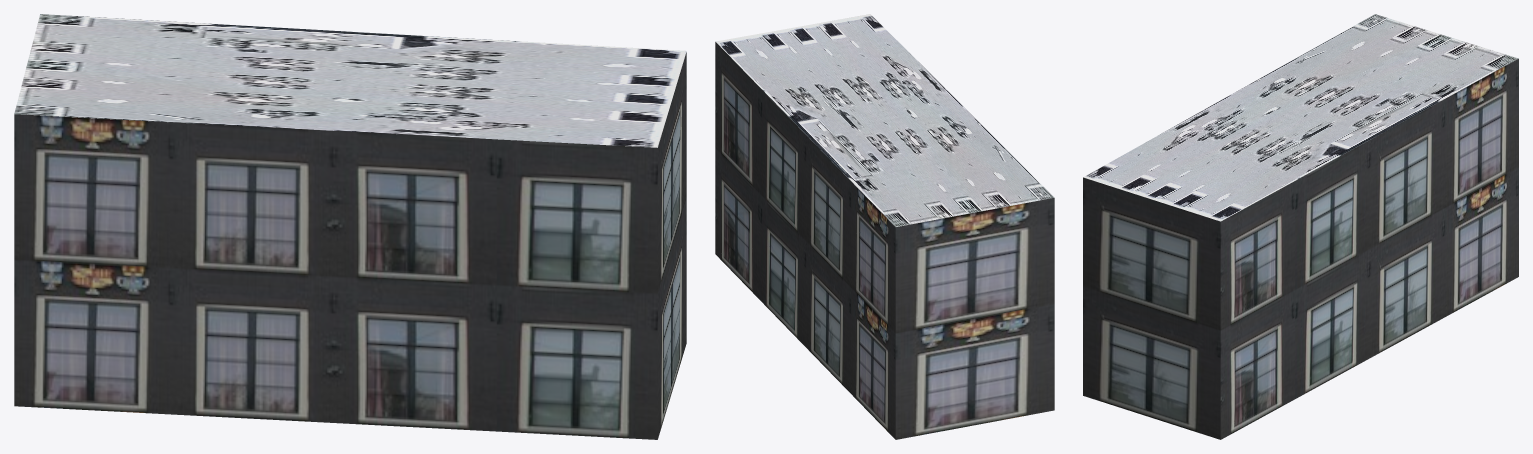
File: ResTex__4707.fbx
3 views of the same model, side by side, from view 1: azimuth 30°, elevation 25°; view 2: azimuth 150°, elevation 25°; view 3: azimuth 270°, elevation 25° (orthographic). The views are drawn at different scales.
Visible parts, largest first — view 1: CityEngineMaterial_22_m, CityEngineMaterial_4_m; view 2: CityEngineMaterial_22_m, CityEngineMaterial_4_m; view 3: CityEngineMaterial_22_m, CityEngineMaterial_4_m.
Part boxes in pixels (x1,y1,x2,y2): CityEngineMaterial_22_m: (14, 52, 686, 439); CityEngineMaterial_4_m: (14, 14, 686, 147); CityEngineMaterial_22_m: (715, 42, 1054, 439); CityEngineMaterial_4_m: (715, 14, 1054, 226); CityEngineMaterial_22_m: (1083, 58, 1518, 439); CityEngineMaterial_4_m: (1083, 14, 1518, 221).
Size of the model in its own units: 12.24 by 6 by 10.85.
2 materials, 2 textured.
